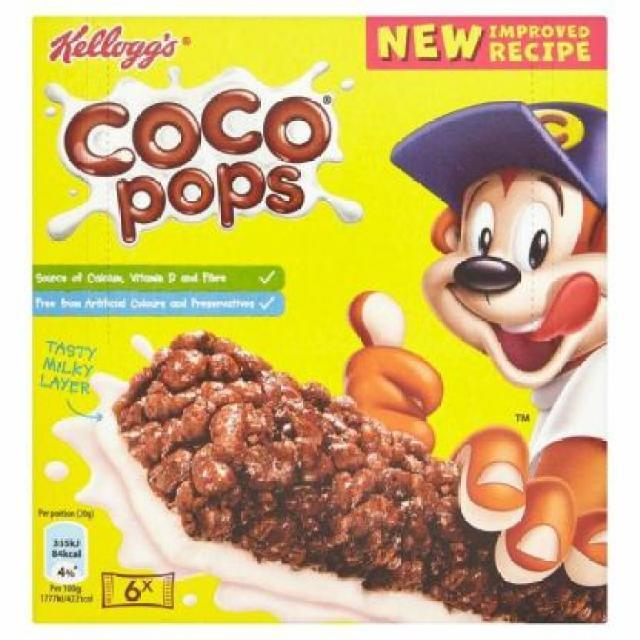Cereal bar: (25, 10, 613, 630)
